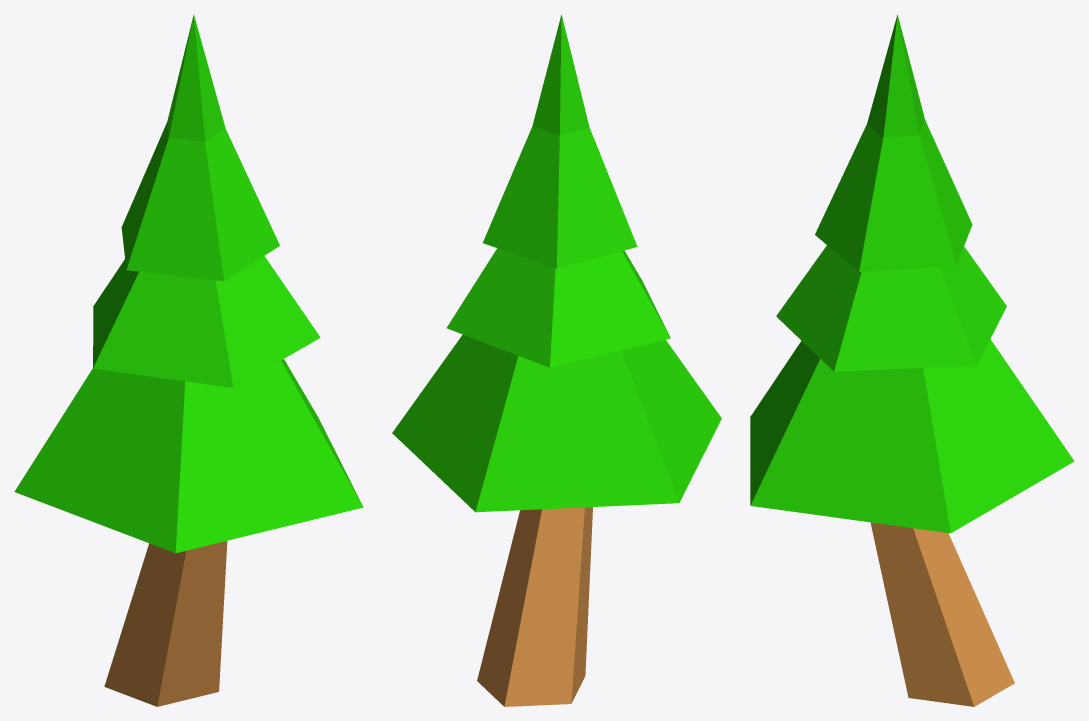
File: 針葉樹2.fbx
3 views of the same model, side by side, from view 1: azimuth 30°, elevation 25°; view 2: azimuth 150°, elevation 25°; view 3: azimuth 270°, elevation 25° (orthographic). The views are drawn at different scales.
Visible parts, largest first — view 1: 円柱, 円; view 2: 円柱, 円; view 3: 円柱, 円.
Part boxes in pixels (x1,y1,x2,y2): 円柱: (14,14,363,553); 円: (104,541,227,706); 円柱: (392,14,721,512); 円: (477,507,592,706); 円柱: (750,14,1074,533); 円: (870,522,1014,706).
Bounding box in the file's own units: 440 × 953 × 418.
